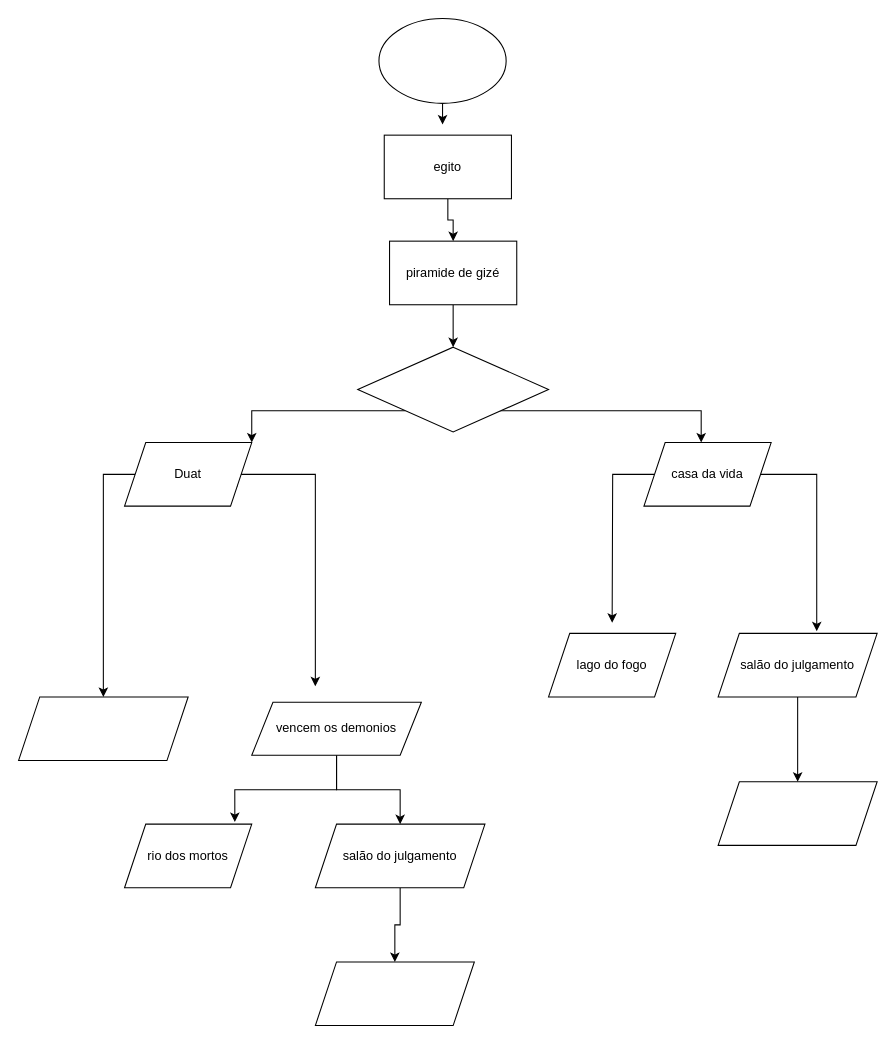
Image size: 896x1044. Some labels were removed from this diagram. Each missing label, with the centre of its shape:
derrotados por demonios: point 102,728
inicio: point 442,60
portada casa da vida: point 453,389
rá agulha da cleópatra: point 394,993
Rá agulha de cleopatra: point 797,813
